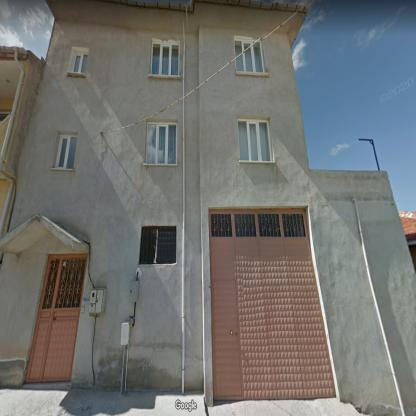door: (210, 240, 335, 398), (26, 254, 87, 381)
window: (209, 209, 308, 240), (238, 119, 272, 160), (145, 121, 177, 164), (140, 228, 176, 262), (150, 40, 179, 75), (53, 132, 76, 169), (236, 42, 264, 72), (68, 48, 89, 74), (234, 40, 255, 57)
